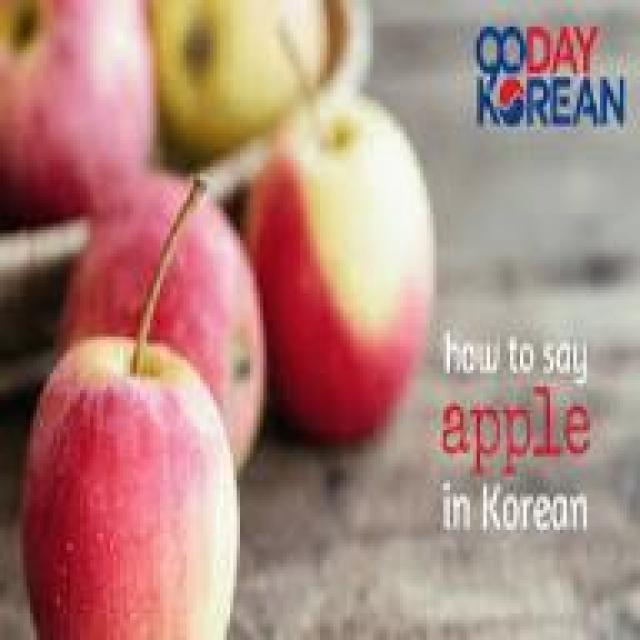apple: (244, 100, 434, 463), (63, 174, 267, 504), (27, 336, 233, 636), (153, 10, 327, 163)
